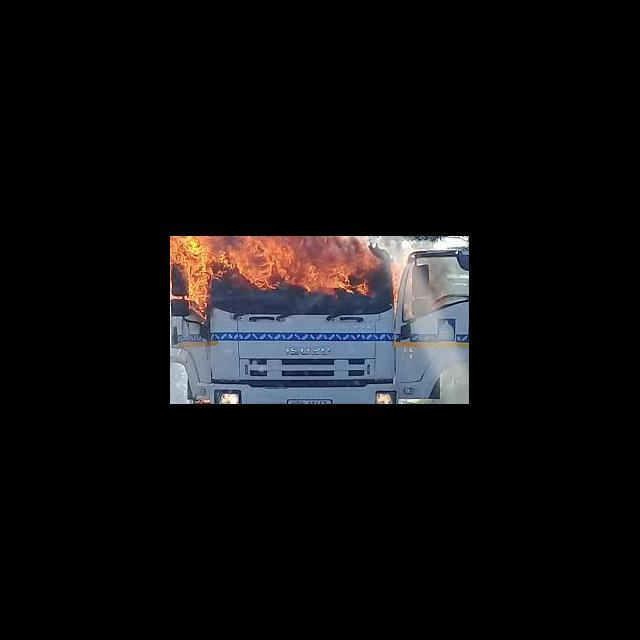Fire: (170, 236, 386, 317)
